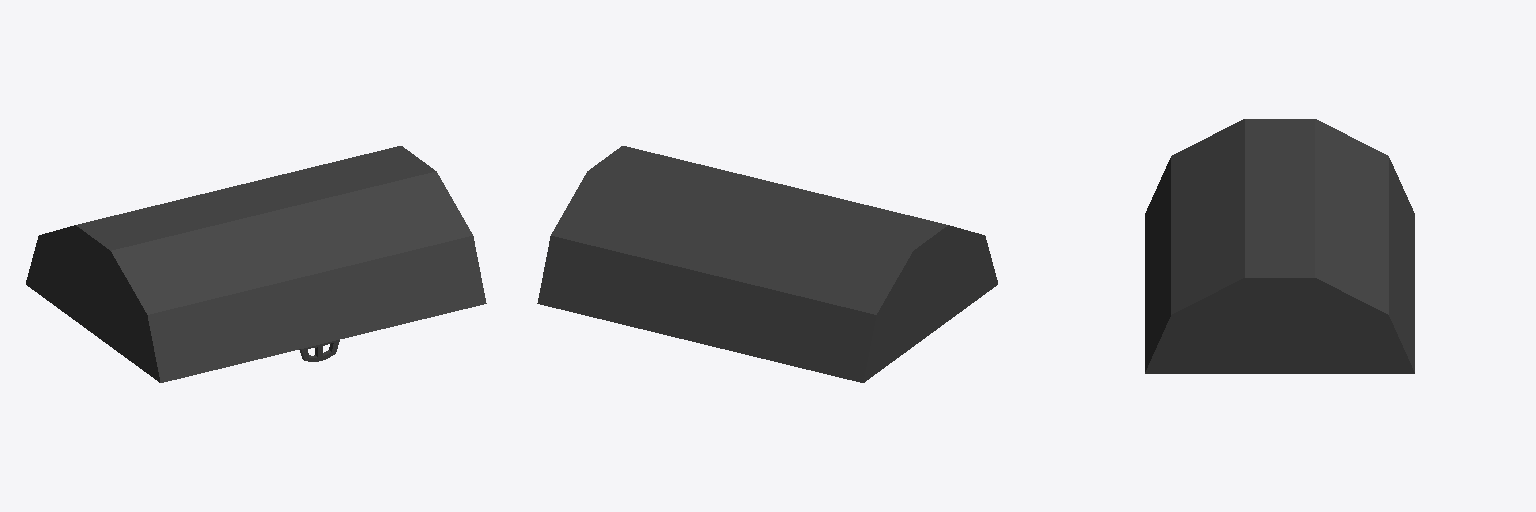
File: chest-lid.obj
The picture shows the model from 3 angles: view 1: azimuth 30°, elevation 25°; view 2: azimuth 150°, elevation 25°; view 3: azimuth 270°, elevation 25°; orthographic projection.
Visible parts, largest first — view 1: lid; view 2: lid; view 3: lid.
Boxes of the visible parts, x1=… form: lid: x1=26, y1=146, x2=486, y2=382; lid: x1=537, y1=146, x2=997, y2=382; lid: x1=1145, y1=119, x2=1414, y2=373.
Size of the model in its own units: 8.32 by 2.82 by 5.98.